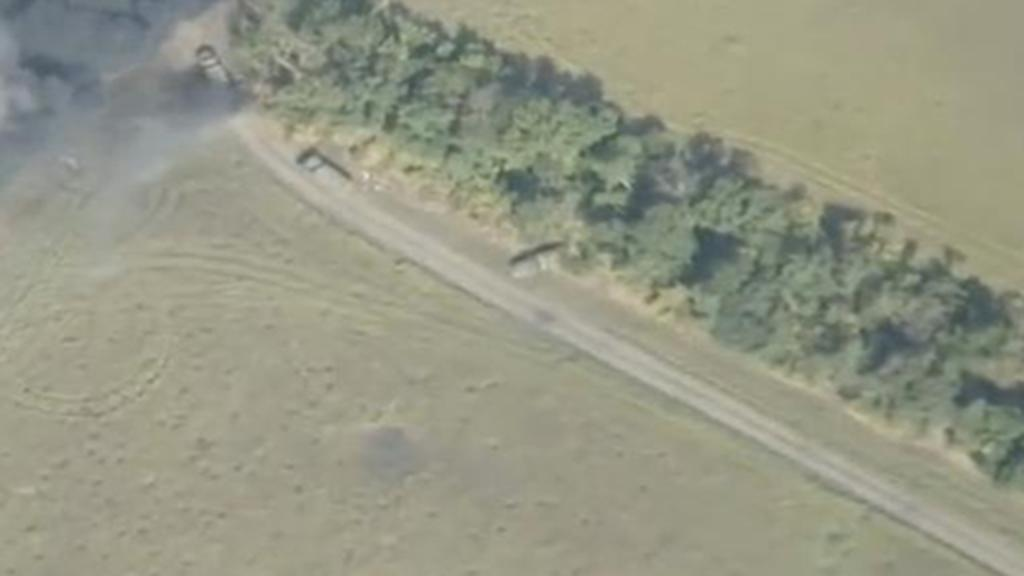TRUCK: (290, 142, 356, 200), (504, 232, 572, 282), (190, 40, 236, 104)
